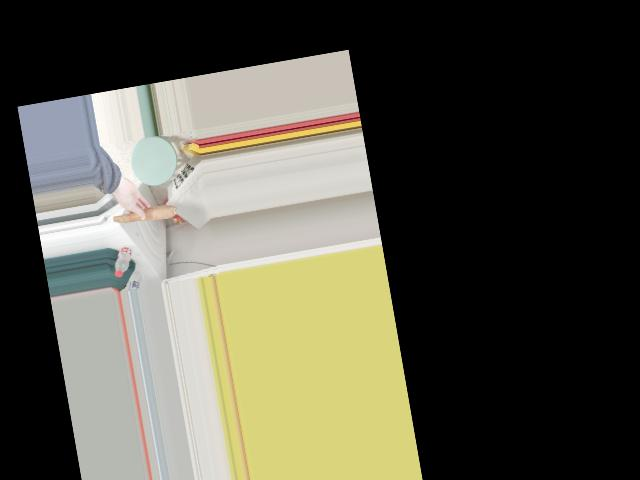sweet_potato: (110, 198, 176, 228)
